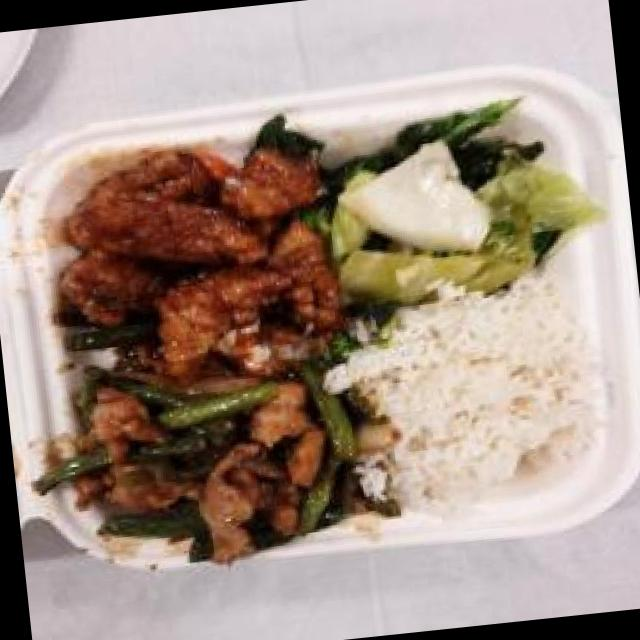String Bean Chicken Breast: (41, 340, 371, 574)
Super Greens: (312, 100, 586, 320)
The Original Orange Chicken: (34, 122, 356, 382)
White Steamed Rice: (358, 279, 611, 507)
